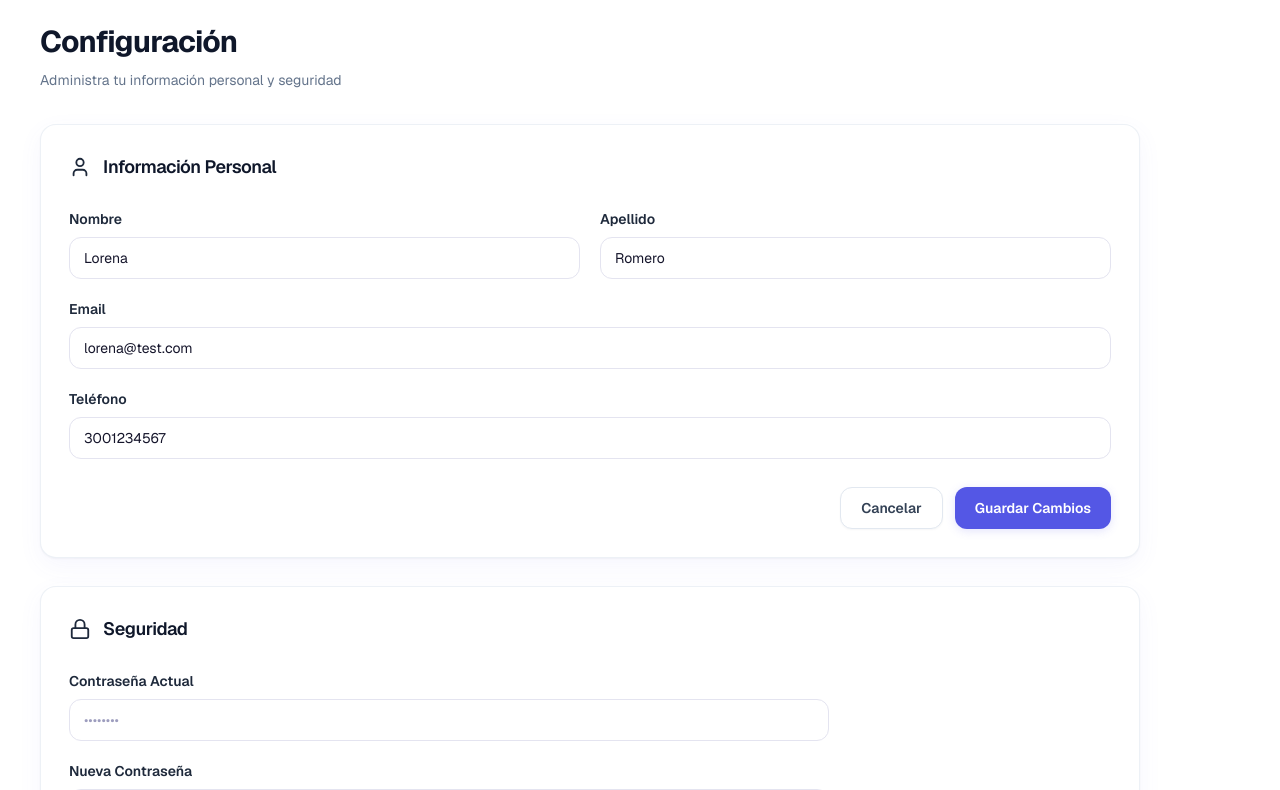
ConfiguracionPage — cambio de contraseña › muestra mensaje de éxito y limpia el formulario cuando la API responde bien
In the password field labelled "Contraseña Actual": (449, 720) [69,699,829,741], type "actual123"
(page scrolled)
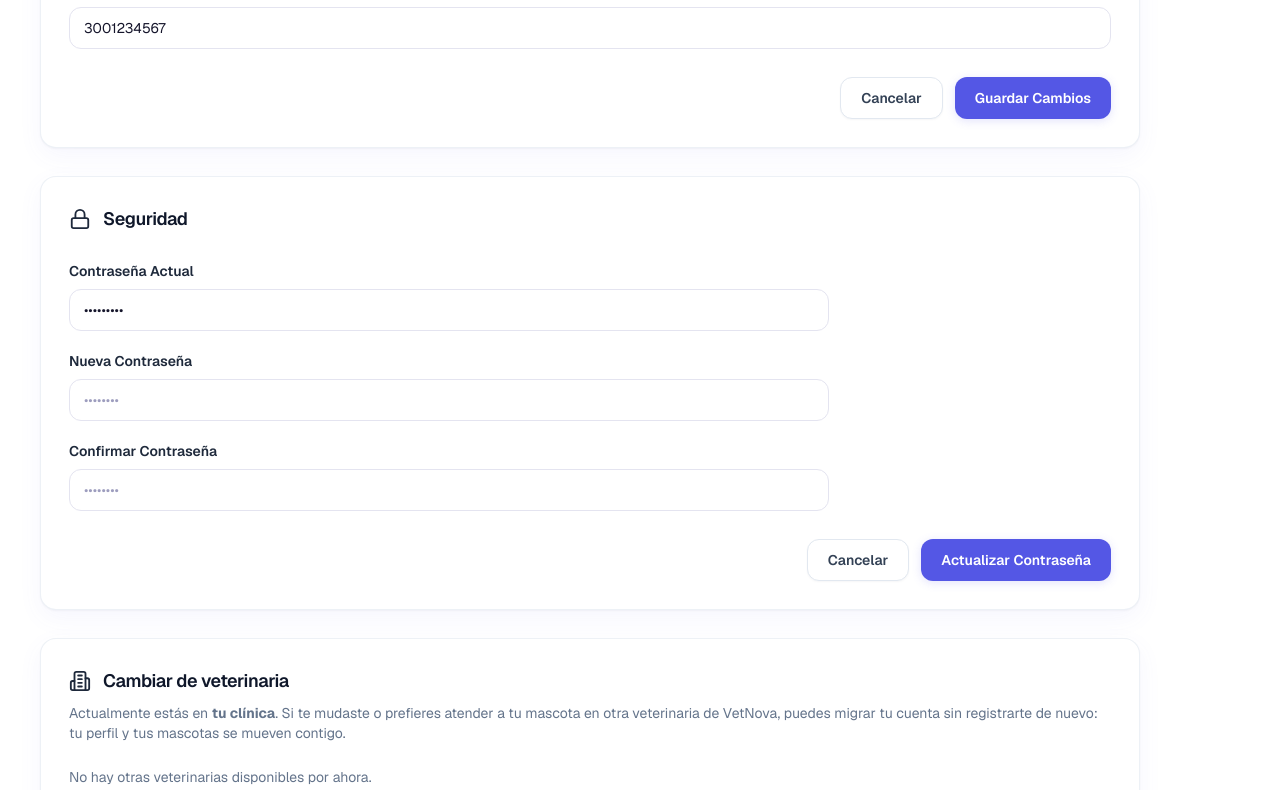
In the password field labelled "Nueva Contraseña": (449, 400) [69,379,829,421], type "nuevaclave1"
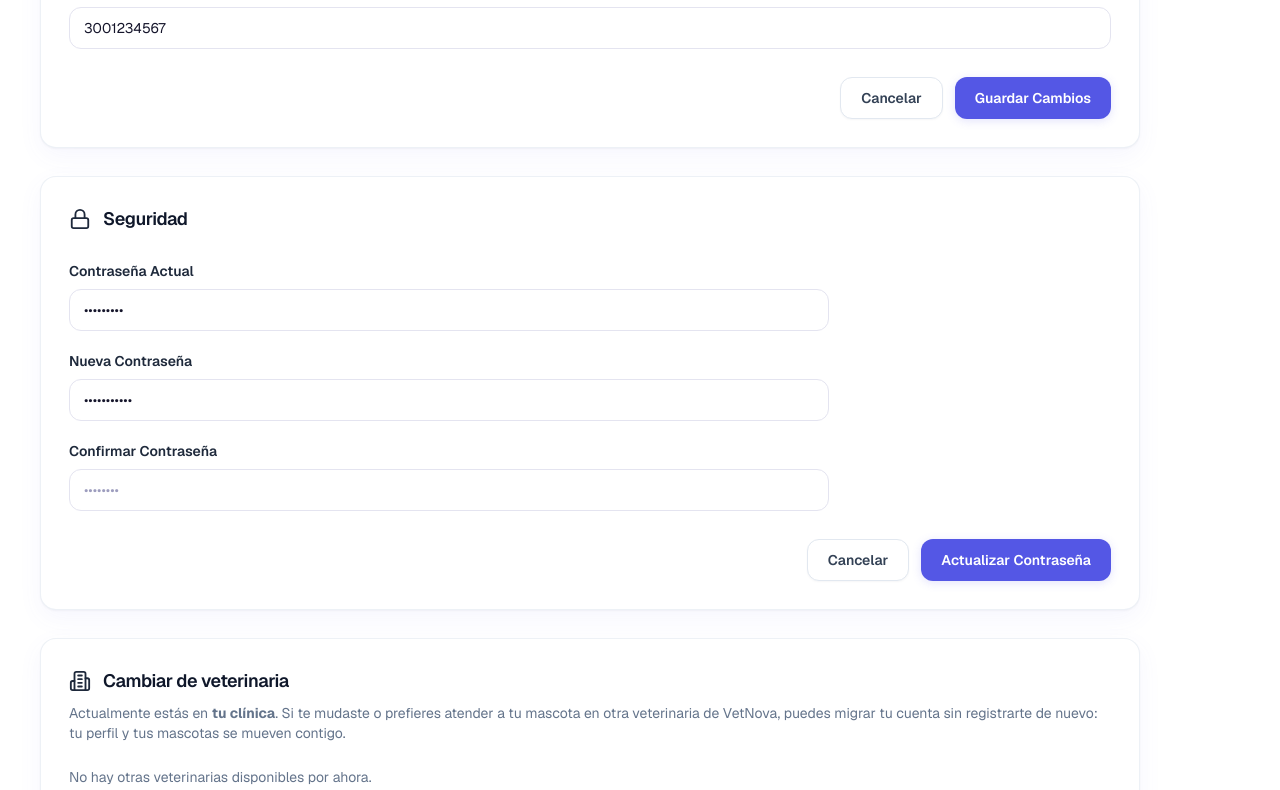
In the password field labelled "Confirmar Contraseña": (449, 490) [69,469,829,511], type "nuevaclave1"
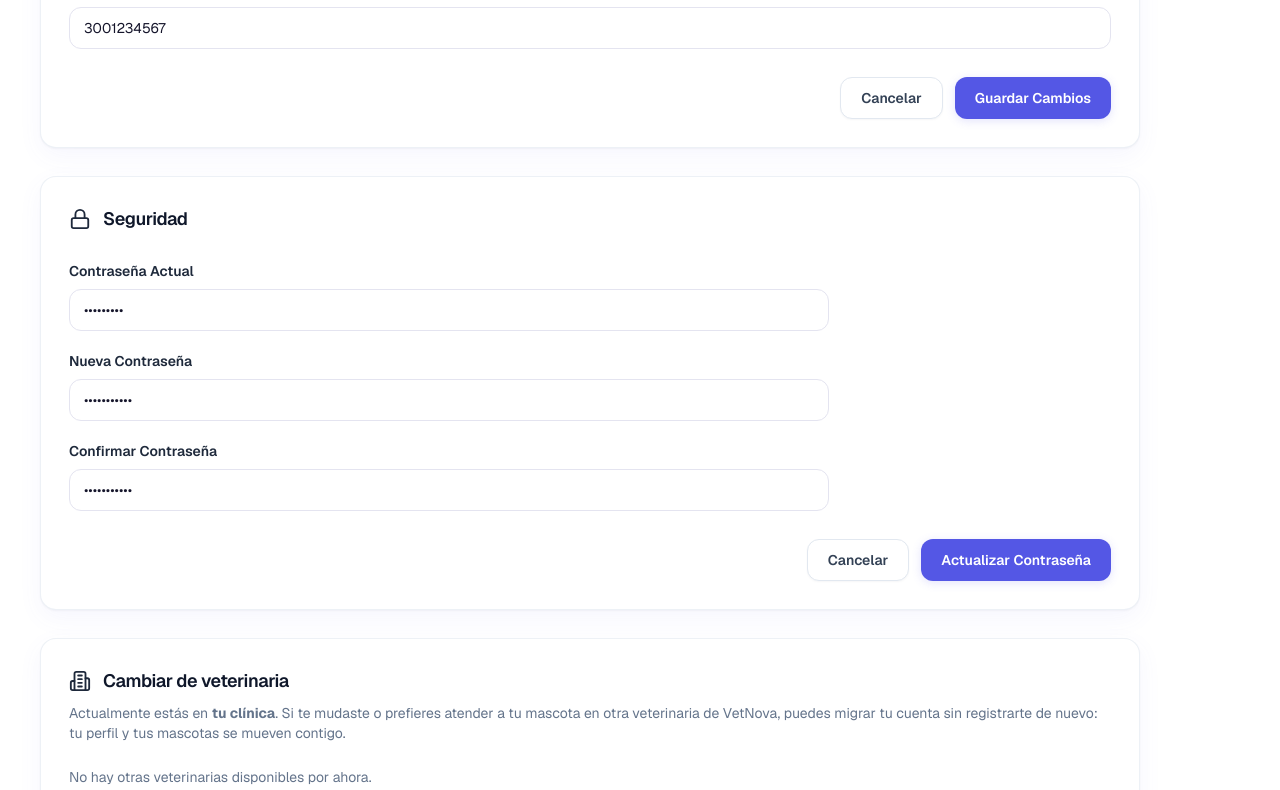
Click the button "Actualizar Contraseña": (1016, 560) [921,539,1111,581]
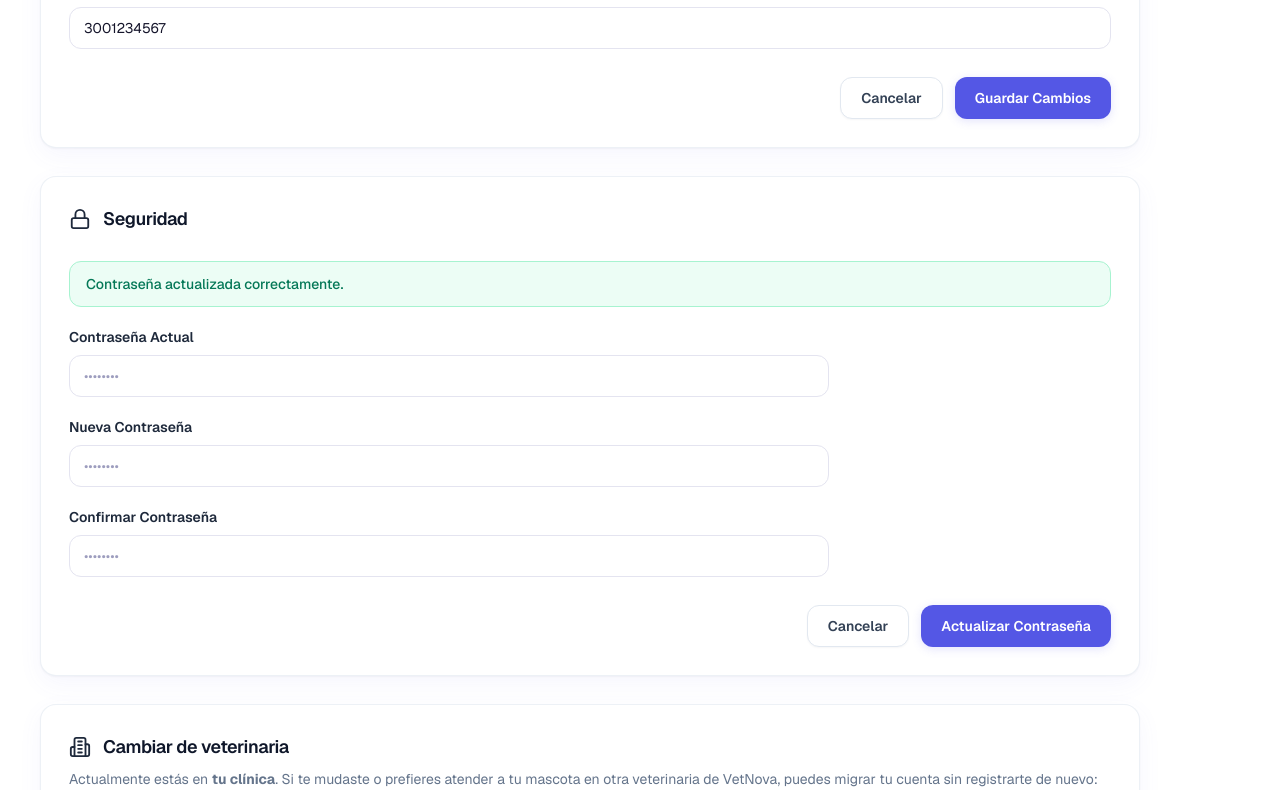
Result: the text "Contraseña actualizada correctamente." is shown at [69,261,1111,307]
Result: the password field labelled "Contraseña Actual" is empty at [69,355,829,397]
